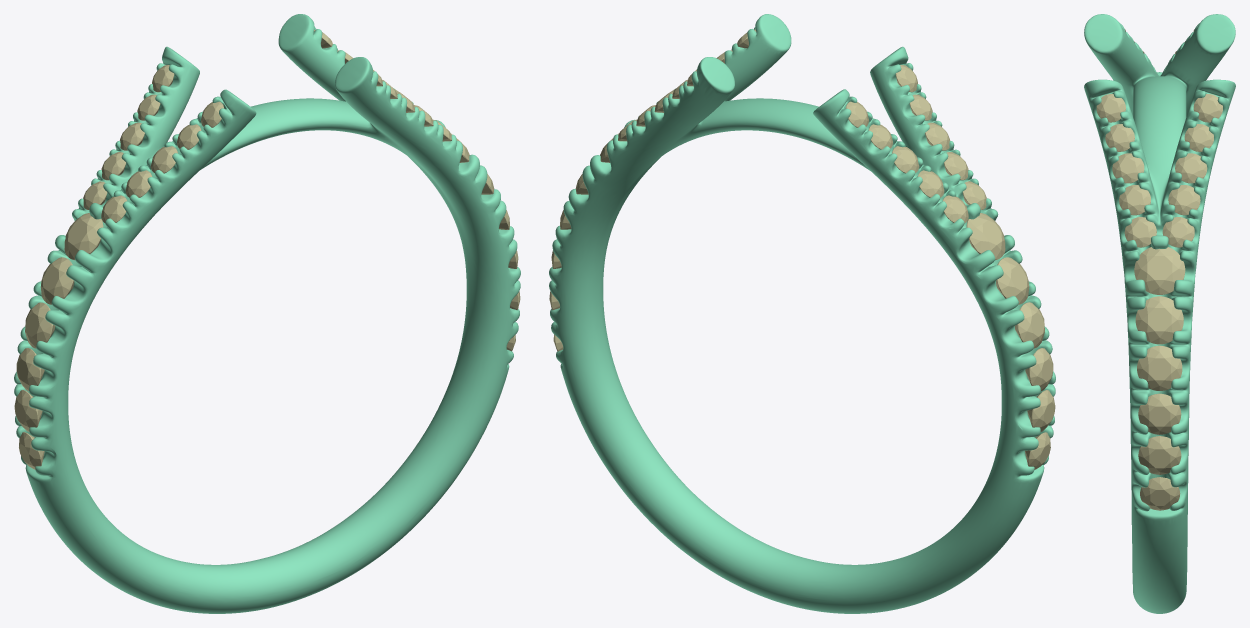
3 renders of one model, left to right at view 1: azimuth 30°, elevation 25°; view 2: azimuth 150°, elevation 25°; view 3: azimuth 270°, elevation 25°, orthographic.
Visible parts, largest first — view 1: Metal02, Diamond_Gem.031, Diamond_Gem.030, Diamond_Gem.029, Diamond_Gem.028, Diamond_Gem.027; view 2: Metal02, Diamond_Gem.031, Diamond_Gem.030, Diamond_Gem.029, Diamond_Gem.028, Diamond_Gem.027; view 3: Metal02, Diamond_Gem, Diamond_Gem.001, Diamond_Gem.002, Diamond_Gem.003, Diamond_Gem.004, Diamond_Gem.005, Diamond_Gem.009, Diamond_Gem.010, Diamond_Gem.012, Diamond_Gem.008, Diamond_Gem.011 (+5 smaller).
Boxes of the visible parts, x1,y1,x2,y2 form: Metal02: (14,14,520,613); Diamond_Gem.031: (64,213,103,260); Diamond_Gem.030: (40,257,74,304); Diamond_Gem.029: (25,302,55,348); Diamond_Gem.028: (16,348,44,391); Diamond_Gem.027: (14,390,42,431); Metal02: (549,14,1055,613); Diamond_Gem.031: (966,213,1005,260); Diamond_Gem.030: (996,257,1029,304); Diamond_Gem.029: (1014,302,1044,348); Diamond_Gem.028: (1025,348,1053,391); Diamond_Gem.027: (1027,390,1055,431); Metal02: (1084,14,1235,613); Diamond_Gem: (1134,247,1185,294); Diamond_Gem.001: (1135,296,1183,344); Diamond_Gem.002: (1137,345,1182,390); Diamond_Gem.003: (1138,393,1181,434); Diamond_Gem.004: (1138,436,1181,474); Diamond_Gem.005: (1140,477,1180,510); Diamond_Gem.009: (1168,185,1200,215); Diamond_Gem.010: (1162,217,1194,247); Diamond_Gem.012: (1119,185,1150,215); Diamond_Gem.008: (1175,153,1207,183); Diamond_Gem.011: (1124,217,1156,247).
Bounding box in the file's own units: 20.92 × 22.29 × 5.67.
